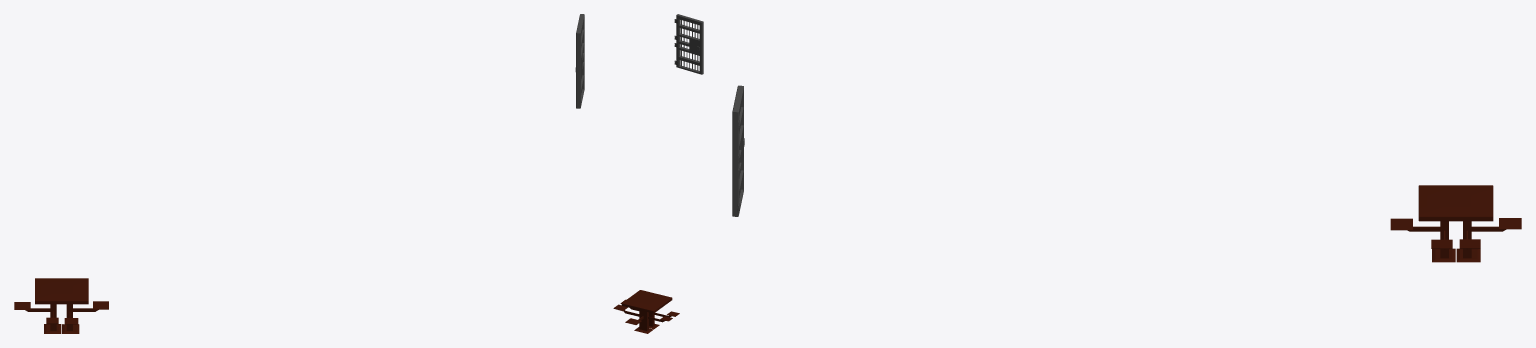
File: parmaklık.fbx
3 views of the same model, side by side, from view 1: azimuth 90°, elevation 25°; view 2: azimuth 150°, elevation 25°; view 3: azimuth 270°, elevation 25° (orthographic). The views are drawn at different scales.
Visible parts, largest first — view 1: pCylinder69, polySurface255; view 2: pCylinder69, polySurface255; view 3: pCylinder69, polySurface255.
Part boxes in pixels (x1,y1,x2,y2): pCylinder69: (14, 278, 108, 333); polySurface255: (575, 14, 584, 108); pCylinder69: (613, 290, 679, 333); polySurface255: (674, 14, 703, 74); pCylinder69: (1390, 185, 1521, 262); polySurface255: (732, 85, 744, 216).
Bounding box in the file's own units: 956 × 739 × 1824.
